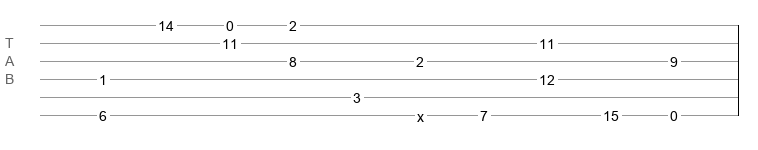0: (226, 18, 234, 28), (670, 108, 678, 118)
1: (99, 72, 107, 82)
11: (222, 36, 238, 46), (539, 36, 555, 46)
12: (539, 72, 555, 82)
14: (158, 18, 174, 28)
15: (603, 108, 619, 118)
2: (289, 18, 297, 28), (416, 54, 424, 64)
3: (353, 90, 361, 100)
6: (99, 108, 107, 118)
7: (480, 108, 488, 118)
8: (289, 54, 297, 64)
9: (670, 54, 678, 64)
x: (417, 109, 424, 117)
